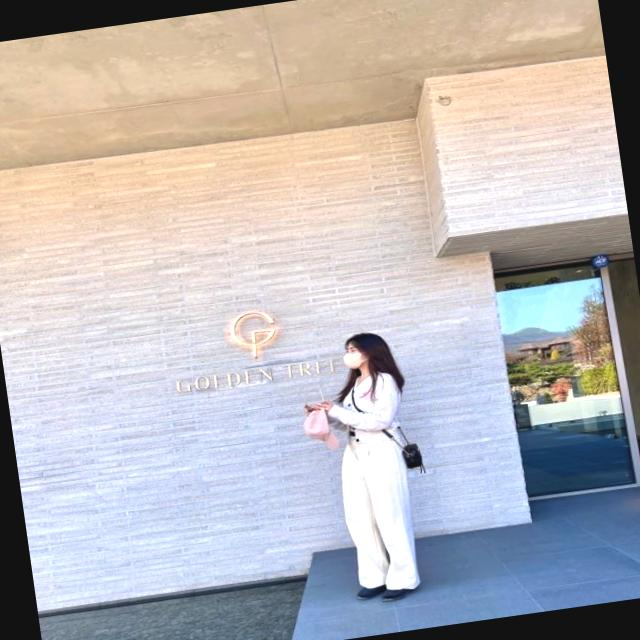cardigan: (304, 366, 409, 450)
cottonpants: (334, 422, 421, 600)
